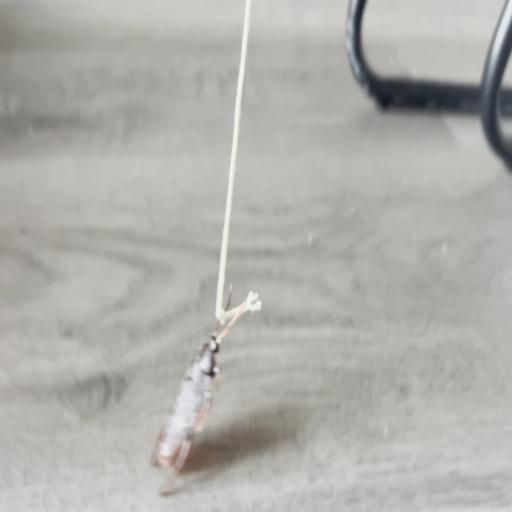cockroach: (152, 327, 224, 477)
